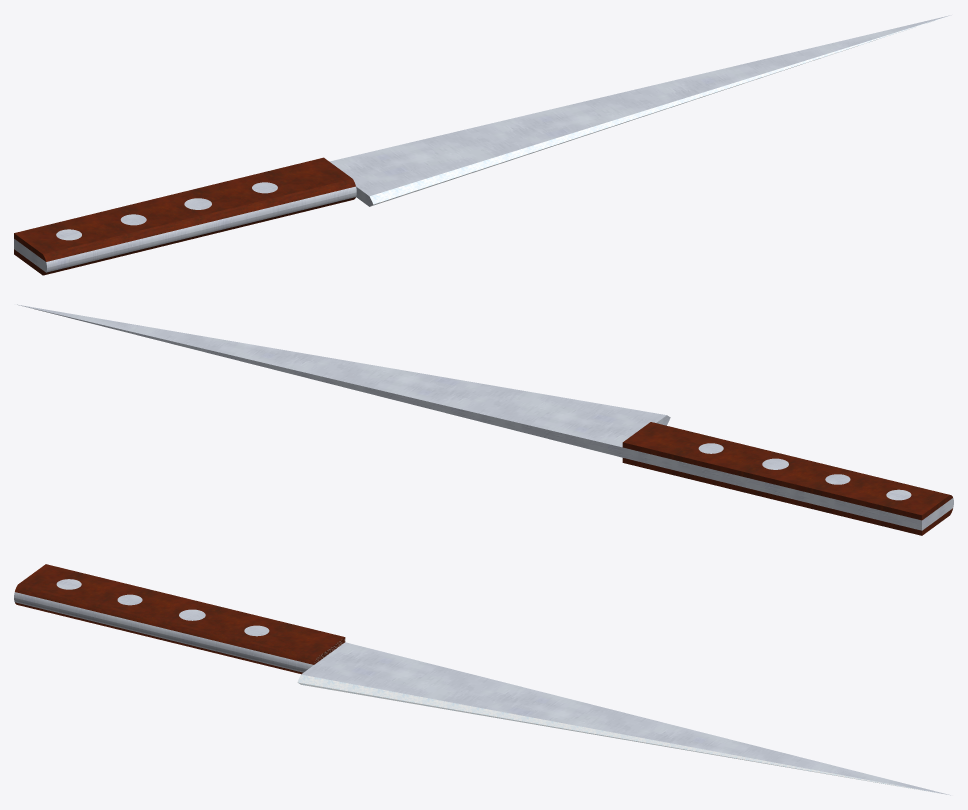
The model's file is knife_08_origin.dae.
The picture shows the model from 3 angles, top to bottom: view 1: azimuth 30°, elevation 25°; view 2: azimuth 150°, elevation 25°; view 3: azimuth 330°, elevation 25°; orthographic projection. The views are drawn at different scales.
Visible parts, largest first — view 1: Kitchen_Knife (×4); view 2: Kitchen_Knife (×3); view 3: Kitchen_Knife (×4).
Part boxes in pixels (x1,y1,x2,y2): Kitchen_Knife (×4): (14, 15, 951, 275); Kitchen_Knife (×3): (17, 304, 953, 535); Kitchen_Knife (×4): (14, 564, 950, 795).
Size of the model in its own units: 12 by 1.1 by 0.2592.
4 materials, 3 textured.
